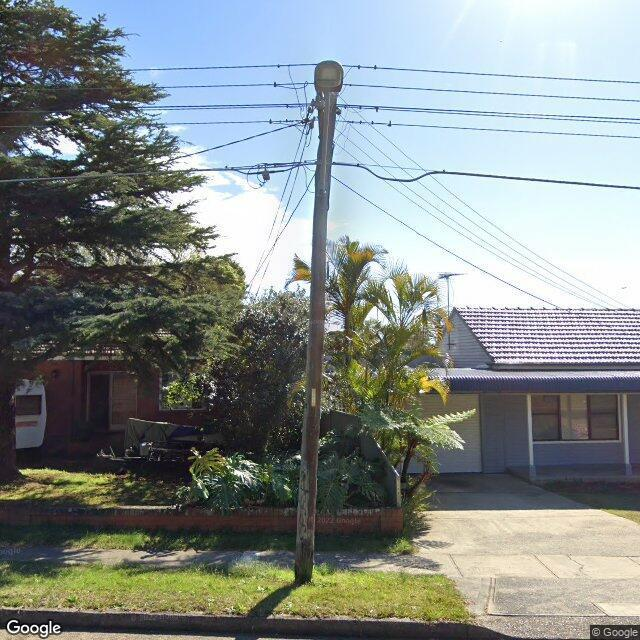crossarm: (316, 92, 322, 138)
streetlight: (314, 59, 344, 207)
timber-pole: (294, 93, 338, 584)
